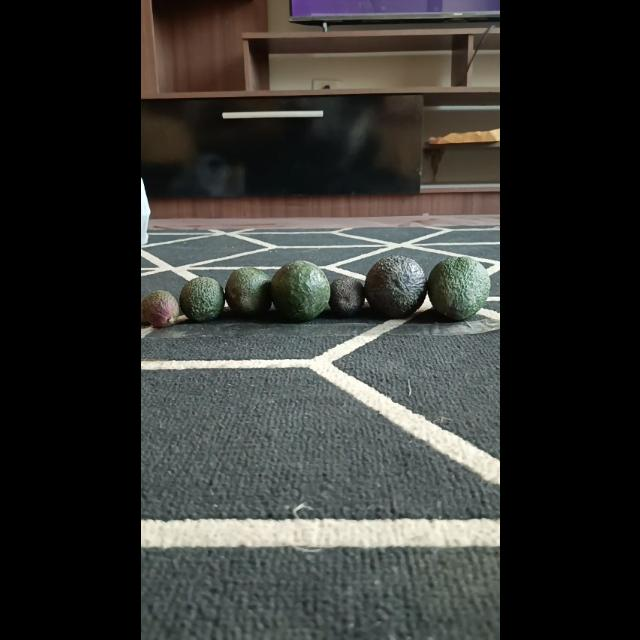Primera: (364, 254, 428, 318), (426, 256, 490, 320), (268, 260, 329, 320)
Segunda: (223, 266, 273, 316)
Tercera: (177, 276, 225, 322), (140, 288, 182, 328), (327, 275, 365, 317)
